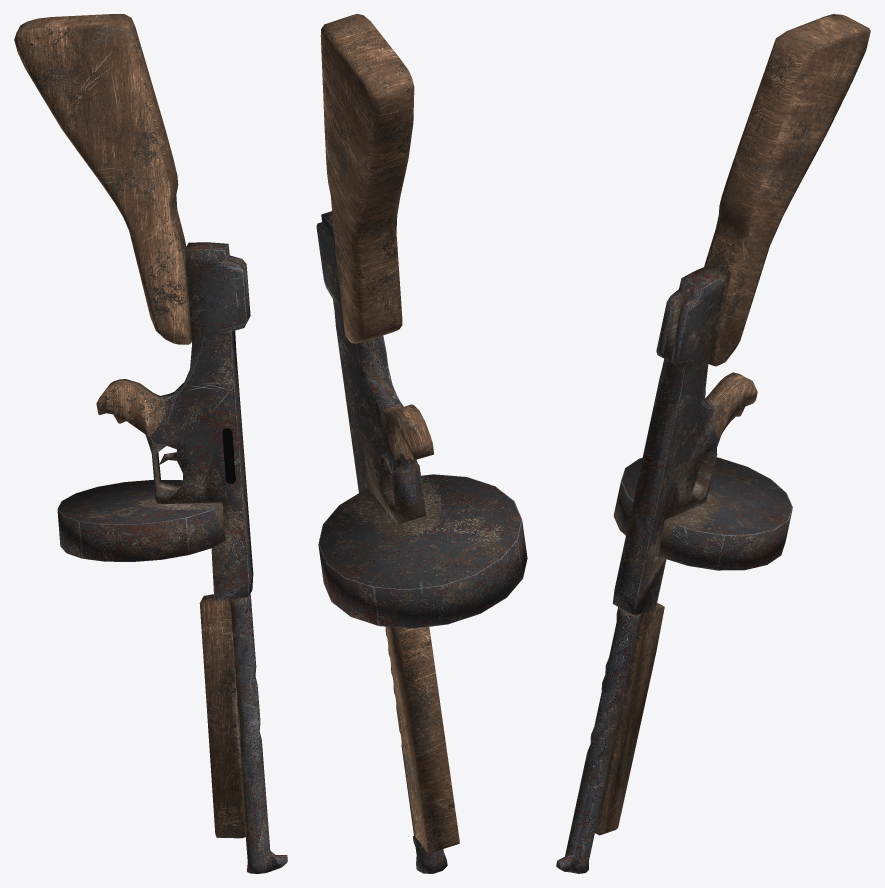
Rendered from Anim_idle_ametralladora_objetos.0022.obj.
3 renders of one model, left to right at view 1: azimuth 30°, elevation 25°; view 2: azimuth 150°, elevation 25°; view 3: azimuth 270°, elevation 25°, orthographic. The views are drawn at different scales.
Parts seen in each view (by area): view 1: Ametralladora1; view 2: Ametralladora1; view 3: Ametralladora1.
Boxes of the visible parts, bbox=[...] form: Ametralladora1: bbox=[14, 14, 287, 873]; Ametralladora1: bbox=[316, 14, 527, 873]; Ametralladora1: bbox=[556, 14, 870, 873].
Bounding box in the file's own units: 1.32 × 5.88 × 2.06.
